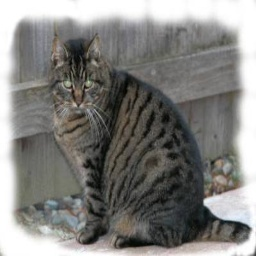cat: (38, 33, 247, 248)
